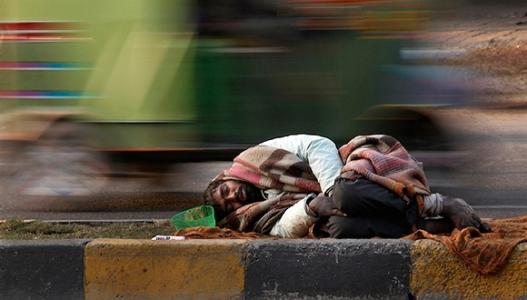fall: (191, 125, 501, 244)
